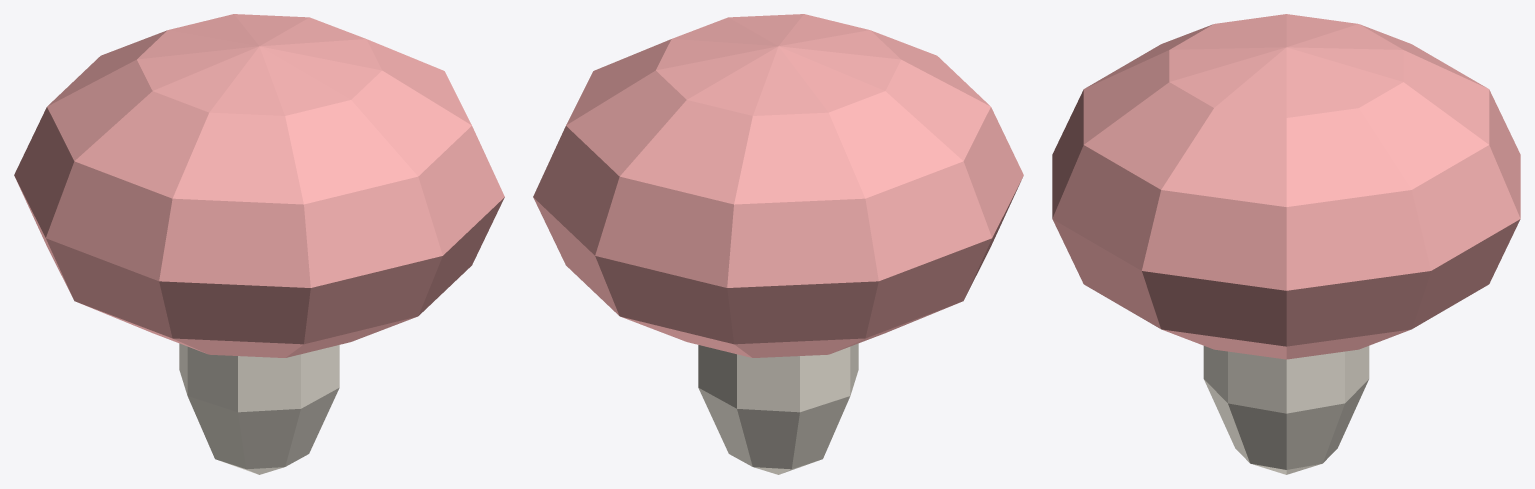
3 renders of one model, left to right at view 1: azimuth 30°, elevation 25°; view 2: azimuth 150°, elevation 25°; view 3: azimuth 270°, elevation 25°, orthographic.
Visible parts, largest first — view 1: Mushroom; view 2: Mushroom; view 3: Mushroom.
Boxes of the visible parts, x1,y1,x2,y2 form: Mushroom: (14, 14, 504, 474); Mushroom: (533, 14, 1023, 474); Mushroom: (1052, 14, 1520, 474).
Bounding box in the file's own units: 0.96 × 0.92 × 0.913.
